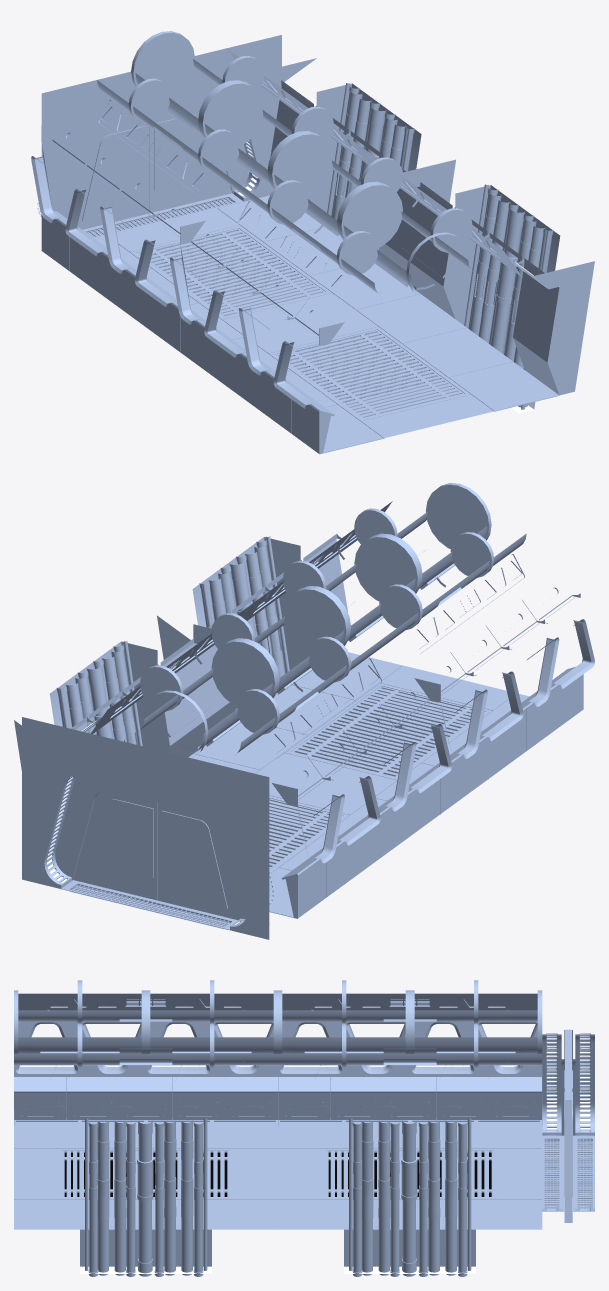
Rendered from asset.gltf.
3 renders of one model, top to bottom at view 1: azimuth 30°, elevation 25°; view 2: azimuth 150°, elevation 25°; view 3: azimuth 270°, elevation 25°, orthographic. The views are drawn at different scales.
Visible parts, largest first — view 1: CorridorFloor.001_29, CorridorFloor_4, CorridorDoorframe_0, Plane.003_21, CorridorWall.002_17, Plane_8, CorridorDoor_1, CorridorWall.003_27, CorridorWall_3, CorridorWall.001_15, Plane.008_12, Plane.005_28 (+16 smaller); view 2: CorridorDoorframe_0, CorridorFloor.001_29, Plane_8, CorridorDoor_1, Plane.003_21, CorridorFloor_4, CorridorWall_3, CorridorWall.002_17, CorridorWall.003_27, CorridorWall.001_15, Plane.005_28, Plane.008_12 (+16 smaller); view 3: CorridorFloor_4, CorridorFloor.001_29, CorridorWall.003_27, CorridorWall.001_15, Plane_8, Plane.003_21, CorridorDoorframe_0, Plane.008_12, Plane.005_28, Plane.004_22, Plane.001_9, Console.002_6 (+14 smaller).
Boxes of the visible parts, x1=… form: CorridorFloor.001_29: x1=226, y1=294, x2=559, y2=454; CorridorFloor_4: x1=94, y1=195, x2=420, y2=352; CorridorDoorframe_0: x1=37, y1=35, x2=281, y2=238; Plane.003_21: x1=236, y1=132, x2=472, y2=294; CorridorWall.002_17: x1=409, y1=185, x2=594, y2=413; Plane_8: x1=97, y1=31, x2=334, y2=192; CorridorDoor_1: x1=77, y1=105, x2=231, y2=229; CorridorWall.003_27: x1=464, y1=184, x2=553, y2=409; CorridorWall_3: x1=270, y1=58, x2=455, y2=293; CorridorWall.001_15: x1=327, y1=83, x2=414, y2=251; Plane.008_12: x1=31, y1=145, x2=174, y2=306; Plane.005_28: x1=170, y1=246, x2=313, y2=408; CorridorDoorframe_0: x1=22, y1=717, x2=273, y2=939; CorridorFloor.001_29: x1=193, y1=652, x2=535, y2=800; Plane_8: x1=139, y1=587, x2=383, y2=754; CorridorDoor_1: x1=73, y1=790, x2=239, y2=920; Plane.003_21: x1=282, y1=483, x2=526, y2=649; CorridorFloor_4: x1=188, y1=753, x2=386, y2=918; CorridorWall_3: x1=14, y1=641, x2=205, y2=770; CorridorWall.002_17: x1=157, y1=537, x2=348, y2=753; CorridorWall.003_27: x1=199, y1=536, x2=289, y2=709; CorridorWall.001_15: x1=56, y1=641, x2=142, y2=746; Plane.005_28: x1=441, y1=619, x2=594, y2=758; Plane.008_12: x1=298, y1=724, x2=451, y2=863; CorridorFloor_4: x1=278, y1=1118, x2=542, y2=1229; CorridorFloor.001_29: x1=14, y1=1118, x2=277, y2=1229; CorridorWall.003_27: x1=85, y1=1118, x2=207, y2=1276; CorridorWall.001_15: x1=349, y1=1118, x2=471, y2=1276; Plane_8: x1=278, y1=980, x2=542, y2=1067; Plane.003_21: x1=14, y1=980, x2=277, y2=1067; CorridorDoorframe_0: x1=542, y1=1030, x2=594, y2=1222; Plane.008_12: x1=278, y1=1021, x2=542, y2=1117; Plane.005_28: x1=14, y1=1021, x2=277, y2=1117; Plane.004_22: x1=18, y1=993, x2=273, y2=1010; Plane.001_9: x1=282, y1=993, x2=537, y2=1010; Console.002_6: x1=383, y1=1077, x2=436, y2=1119.
Bounding box in the file's own units: 7.19 × 5.62 × 13.2.
